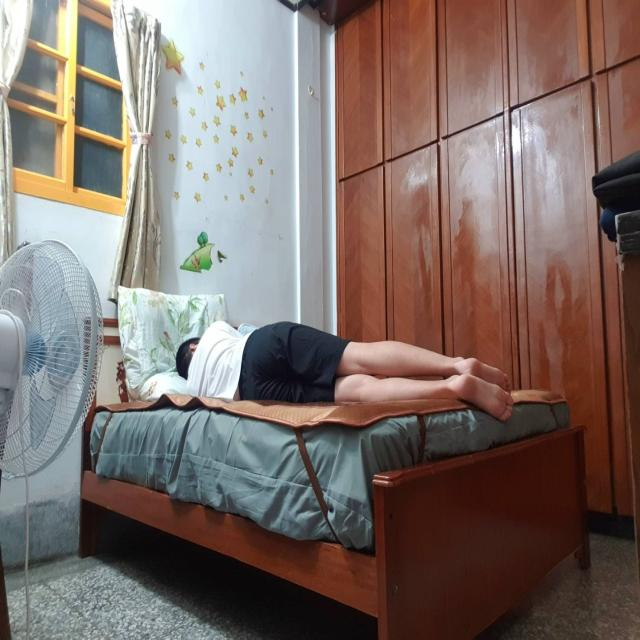lie: (171, 322, 519, 411)
